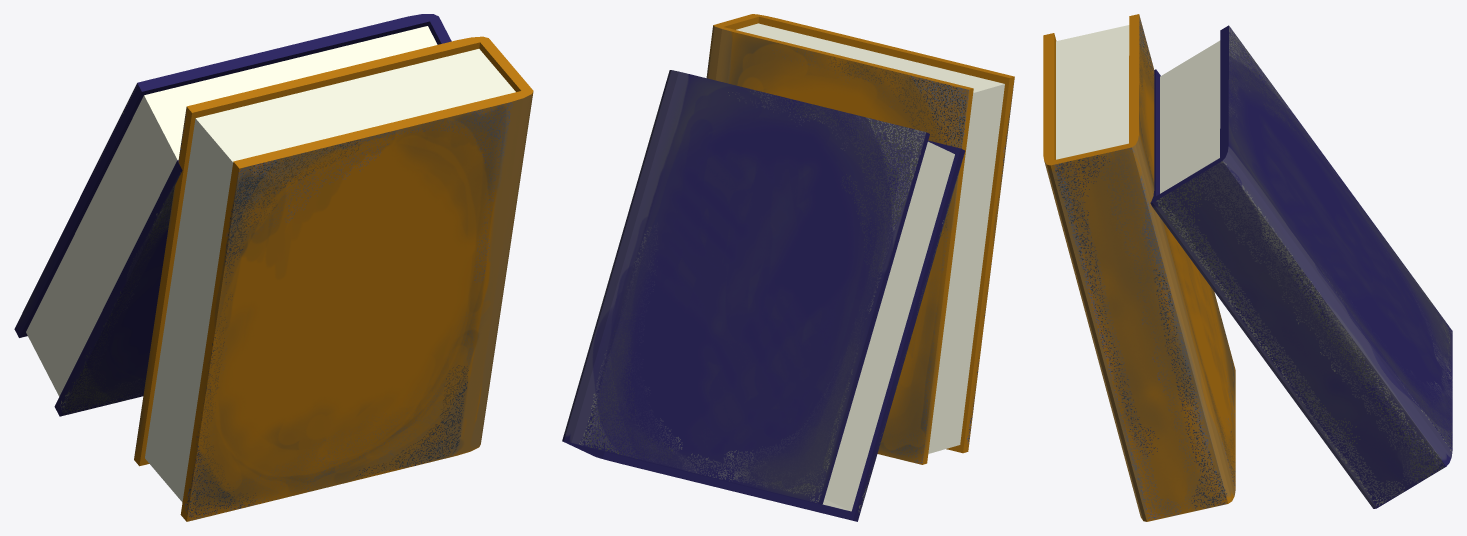
The model's file is Stack-8.fbx.
3 renders of one model, left to right at view 1: azimuth 30°, elevation 25°; view 2: azimuth 150°, elevation 25°; view 3: azimuth 270°, elevation 25°, orthographic. The views are drawn at different scales.
Parts seen in each view (by area): view 1: Cube.017; view 2: Cube.017; view 3: Cube.017.
Boxes of the visible parts, x1,y1,x2,y2 form: Cube.017: (14,14,533,521); Cube.017: (562,14,1014,521); Cube.017: (1043,14,1452,521).
Size of the model in its own units: 12.86 by 17.13 by 16.82.
4 materials, 2 textured.
